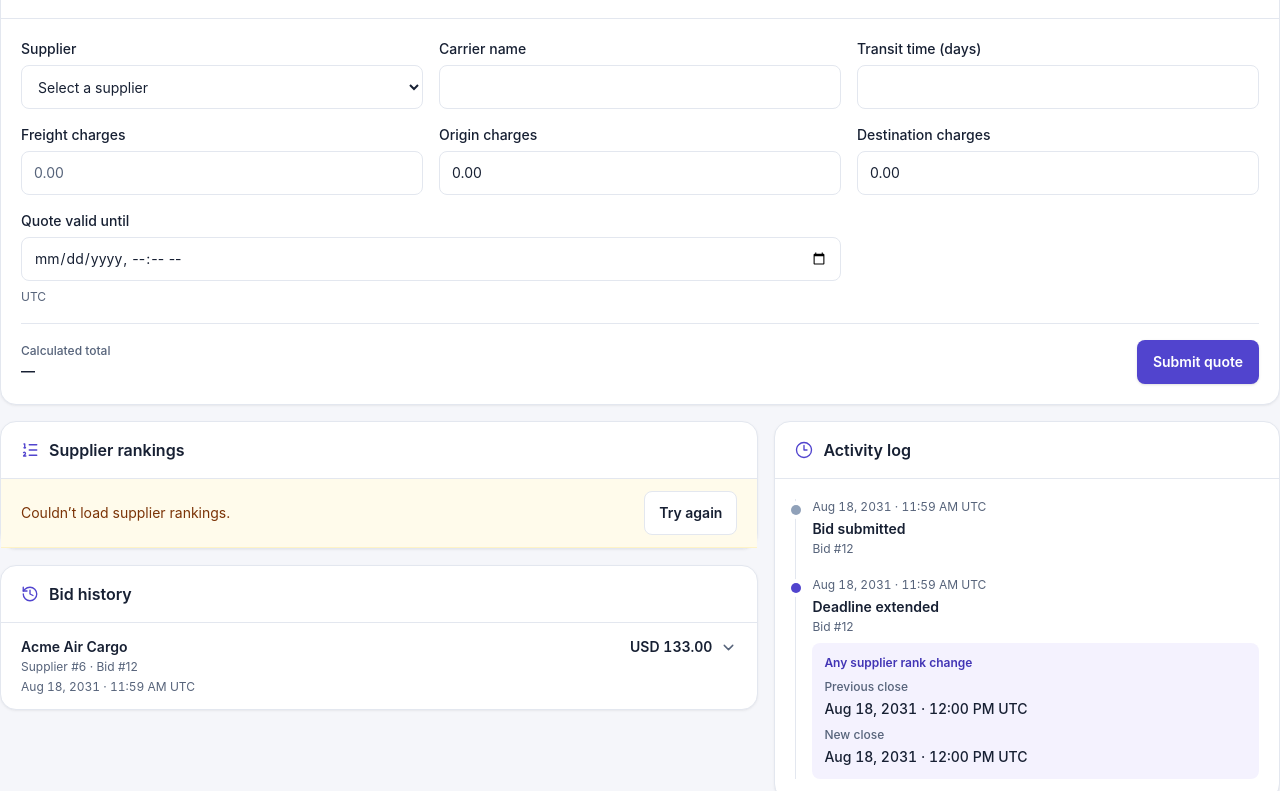
Test: keeps available panels visible and retries an individual request
This screenshot has width=1280, height=791.
(page scrolled)
expect the message shows "Couldn’t load supplier rankings": met, box 1,479 -> 757,548
expect the text "Deadline extended" is shown: met, box 812,598 -> 939,615
Click the button "Try again".
click(691, 513)  # box 644,491 -> 737,535
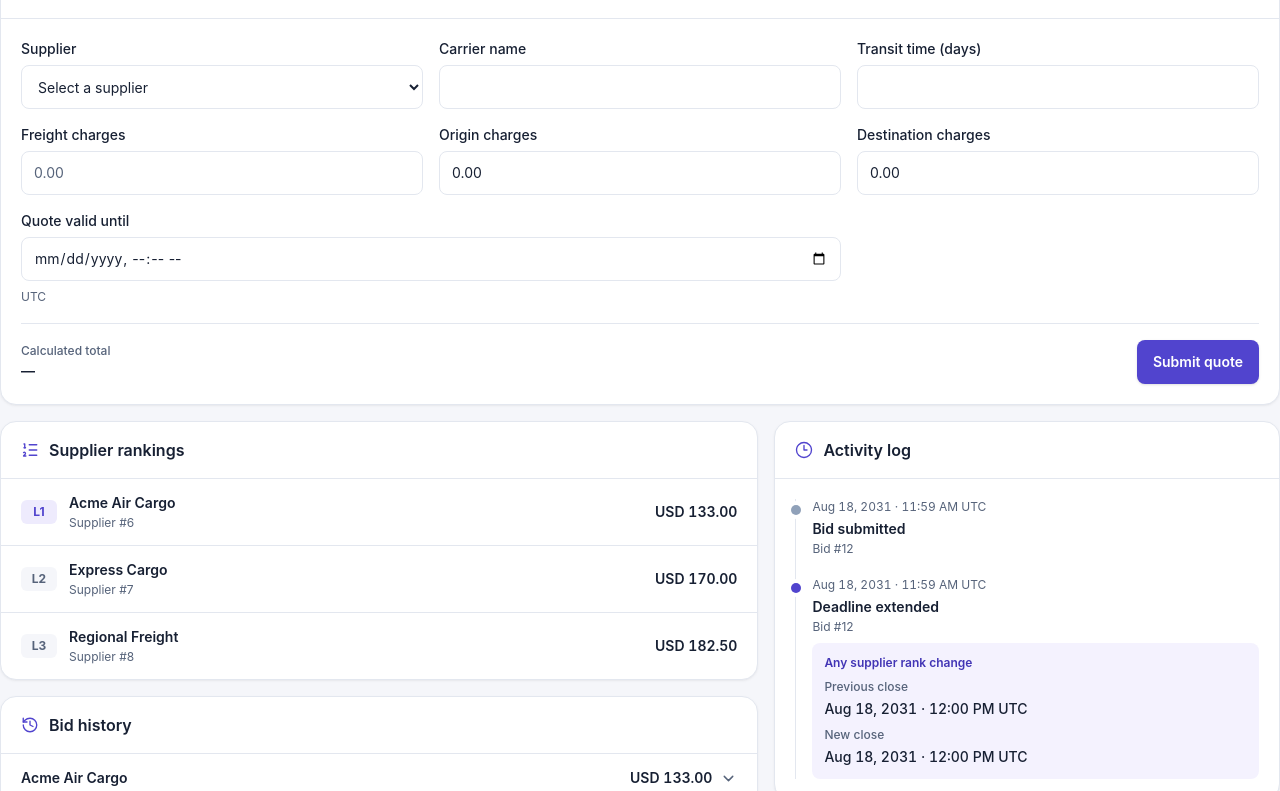
expect the text "L1" is shown: met, box 21,500 -> 57,524
expect the message "Couldn’t load supplier rankings. Try again" is gone: met
